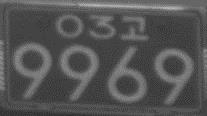0: (55, 13, 84, 39)
3: (88, 13, 117, 39)
6: (107, 45, 148, 103)
9: (153, 47, 195, 105), (11, 40, 52, 99), (58, 44, 100, 101)
고: (120, 15, 149, 42)
